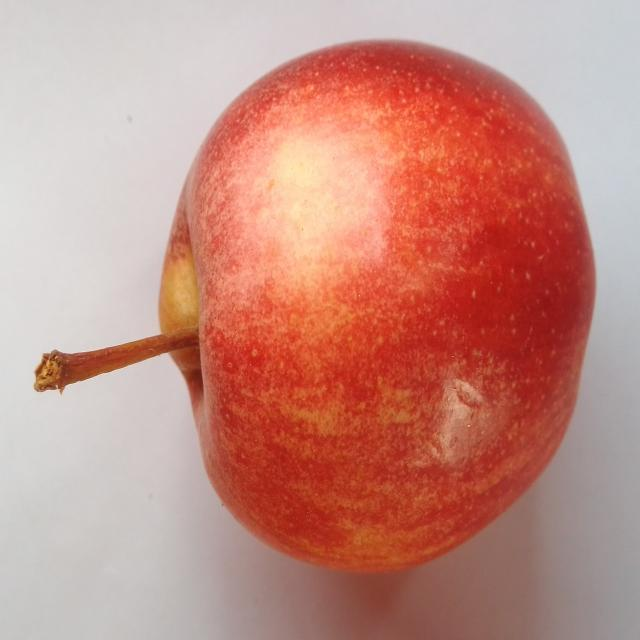Fresh Apple: (136, 48, 640, 584)
